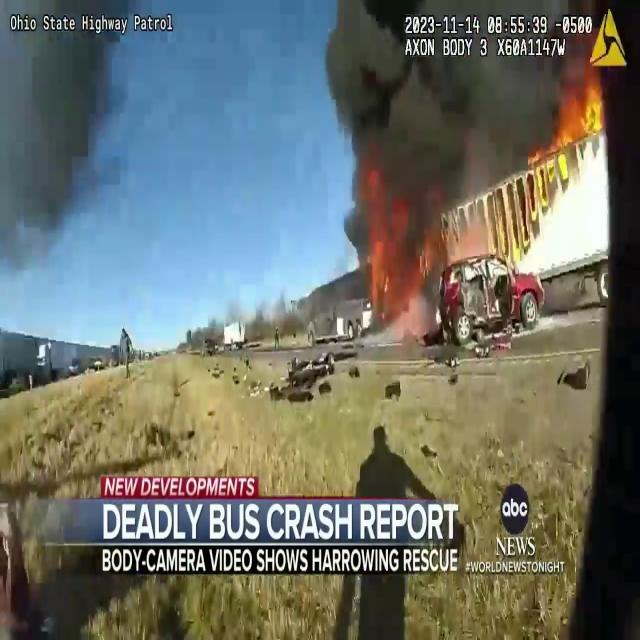Fire: (548, 69, 608, 204), (360, 225, 392, 308)
Smoke: (320, 0, 568, 261), (0, 0, 129, 335)
